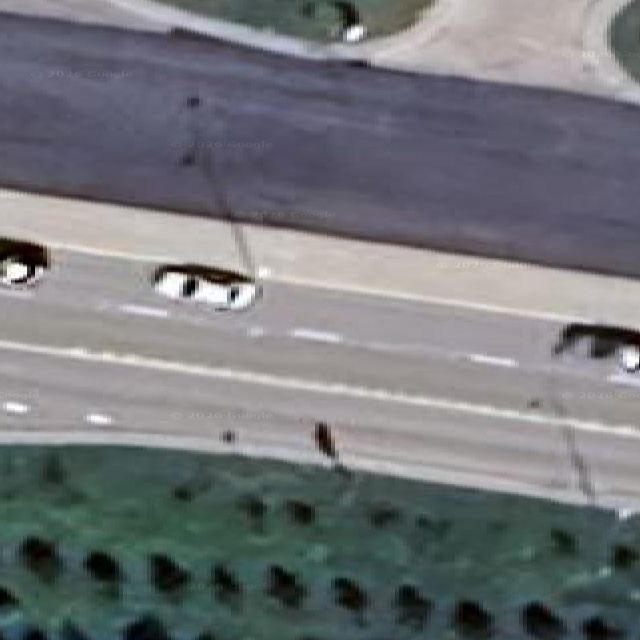car: (153, 264, 259, 309), (554, 323, 639, 372), (0, 239, 48, 286), (620, 345, 640, 373)
